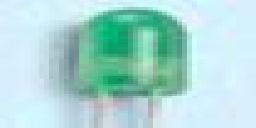LED: (76, 6, 194, 128)
